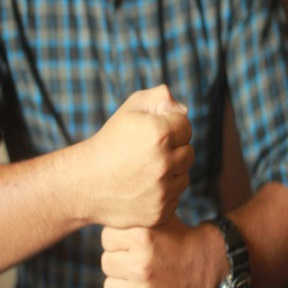G: (95, 83, 207, 288)
